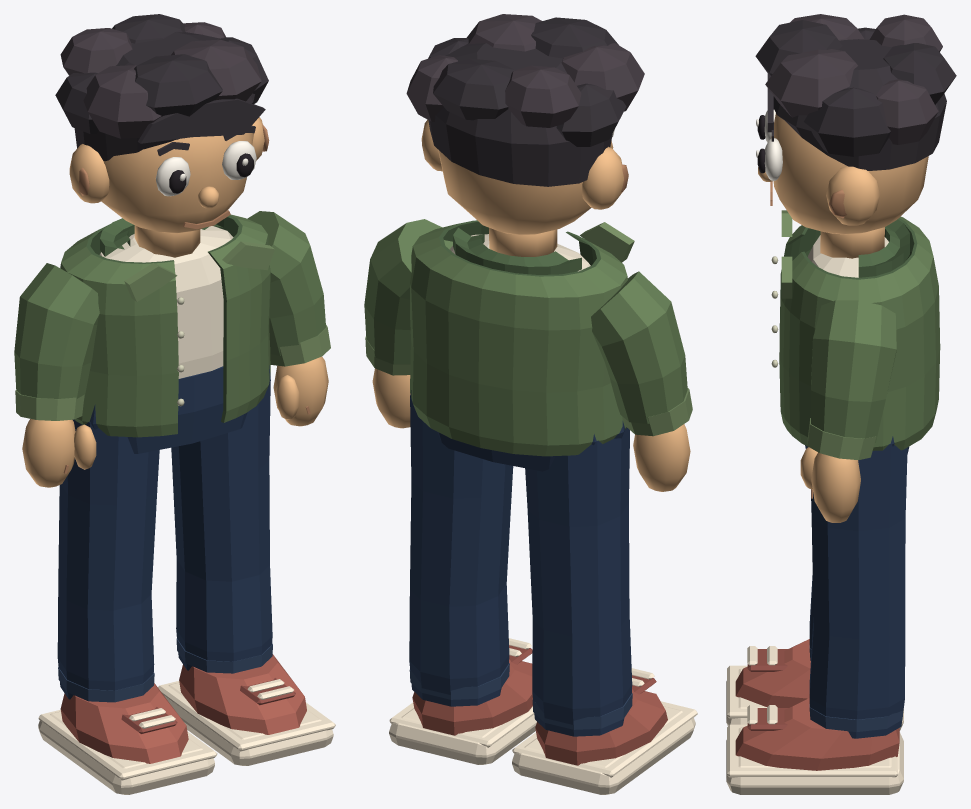
File: campus_visitor_man_v01.glb
3 renders of one model, left to right at view 1: azimuth 30°, elevation 25°; view 2: azimuth 150°, elevation 25°; view 3: azimuth 270°, elevation 25°, orthographic. The views are drawn at different scales.
Parts seen in each view (by area): view 1: campus_visitor_man; view 2: campus_visitor_man; view 3: campus_visitor_man.
Boxes of the visible parts, left/top/right/bottom form: campus_visitor_man: left=14, top=14, right=335, bottom=794; campus_visitor_man: left=364, top=14, right=697, bottom=794; campus_visitor_man: left=726, top=14, right=956, bottom=794.
Bounding box in the file's own units: 0.8542 × 1.85 × 0.545.
Materials: 1 (1 with a texture image).
